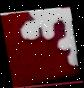dent: (0, 1, 84, 88)
